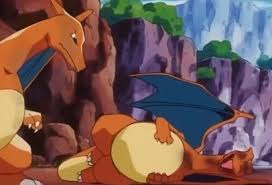charizard: (62, 69, 258, 185), (1, 2, 92, 185)
